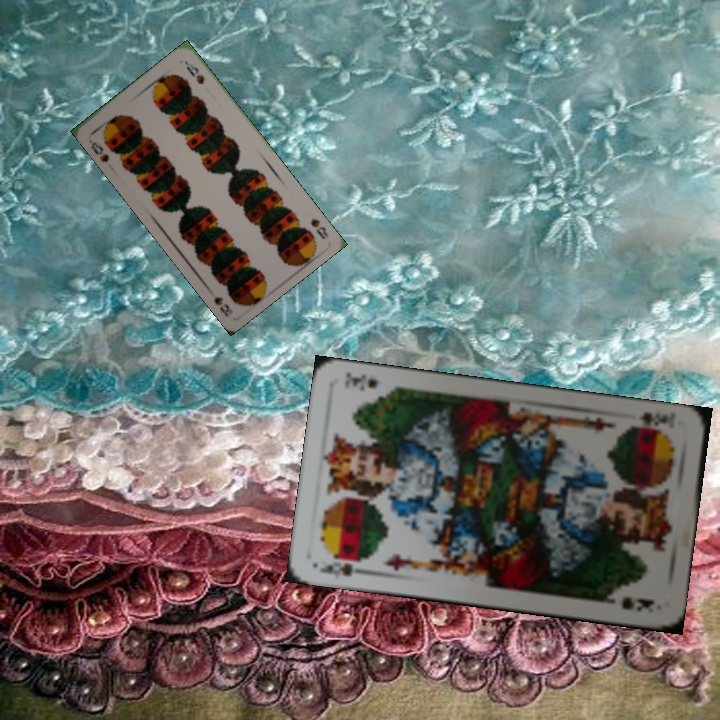S8: (85, 135, 111, 165), (306, 214, 331, 242)
SK: (316, 552, 371, 580), (635, 407, 672, 435)
